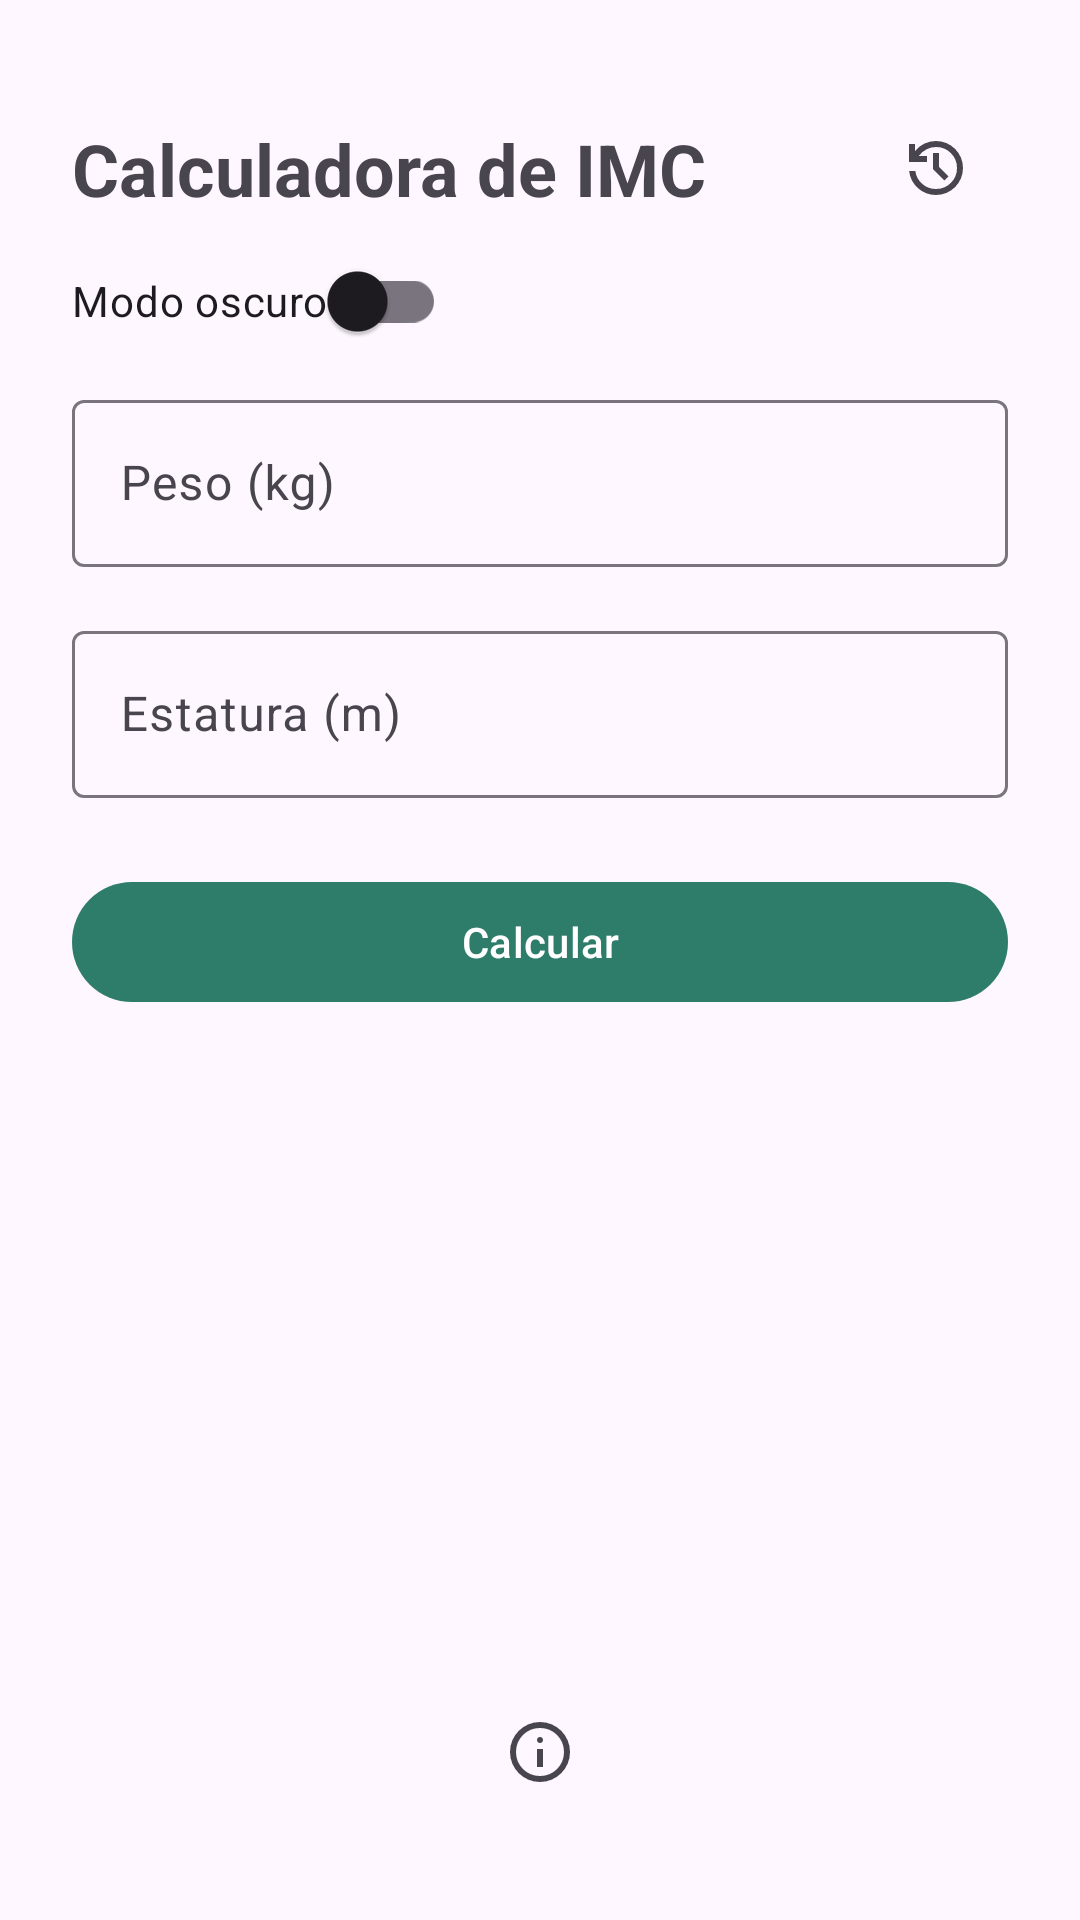

Icons on this 1080 × 1920 Android screen, each with its box as (x1, y1, x2, y2):
Acerca de: (510, 1722, 570, 1782)
Historial: (909, 141, 963, 195)
